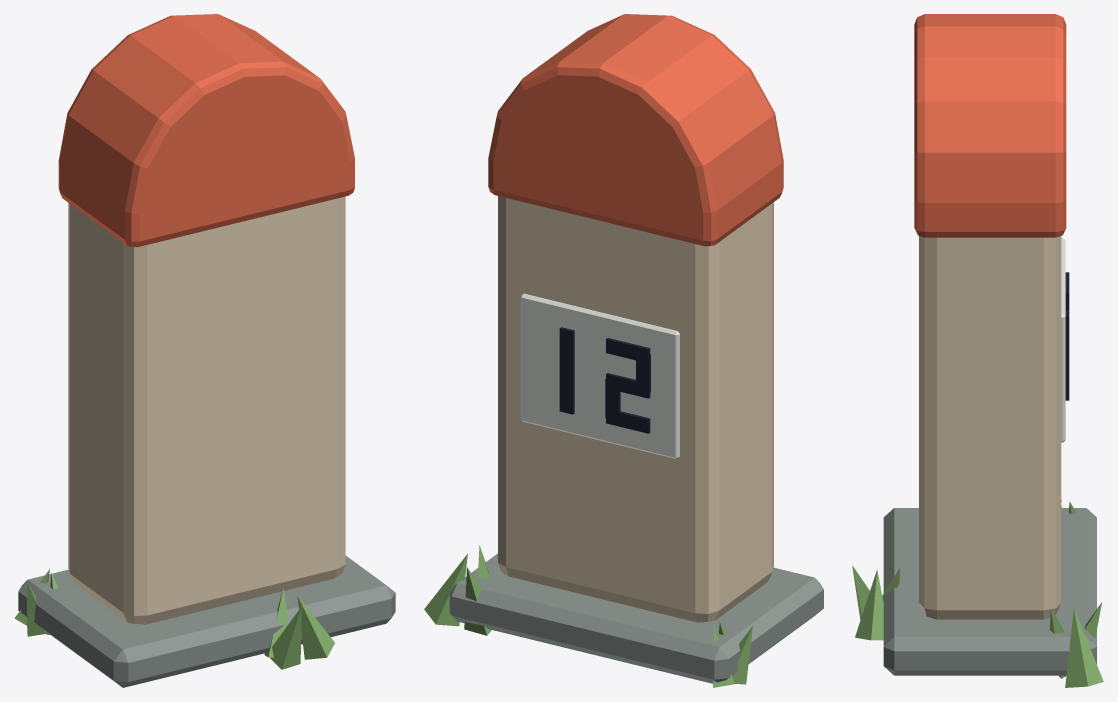
The model's file is sm_env_prop_milestone.glb.
The picture shows the model from 3 angles, left to right: view 1: azimuth 30°, elevation 25°; view 2: azimuth 150°, elevation 25°; view 3: azimuth 270°, elevation 25°; orthographic projection.
Visible parts, largest first — view 1: Milestone, MilestoneTop, MilestoneBase, GrassTuft.008, GrassTuft.007; view 2: Milestone, MilestoneTop, MilestoneBase, MilestonePlate, MilestoneNumber, GrassTuft, MilestoneNumber.001, MilestoneNumber.005, GrassTuft.004; view 3: Milestone, MilestoneTop, MilestoneBase, GrassTuft, GrassTuft.008, MilestonePlate, MilestoneNumber, GrassTuft.007.
Boxes of the visible parts, x1,y1,x2,y2 form: Milestone: (68,196,345,624); MilestoneTop: (58,14,354,247); MilestoneBase: (18,556,395,687); GrassTuft.008: (297,595,334,659); GrassTuft.007: (266,606,301,669); Milestone: (498,196,773,622); MilestoneTop: (488,14,783,246); MilestoneBase: (449,553,823,683); MilestonePlate: (520,293,679,459); MilestoneNumber: (559,327,574,414); GrassTuft: (424,554,467,626); MilestoneNumber.001: (606,338,650,363); MilestoneNumber.005: (606,409,650,433); GrassTuft.004: (732,626,752,684); Milestone: (919,236,1061,619); MilestoneTop: (914,14,1066,237); MilestoneBase: (883,508,1096,675); GrassTuft: (1065,608,1103,687); GrassTuft.008: (855,569,883,640); MilestonePlate: (1061,238,1065,442); MilestoneNumber: (1065,310,1069,400); GrassTuft.007: (852,565,869,619).
Bounding box in the file's own units: 0.5102 × 0.9181 × 0.3538.
